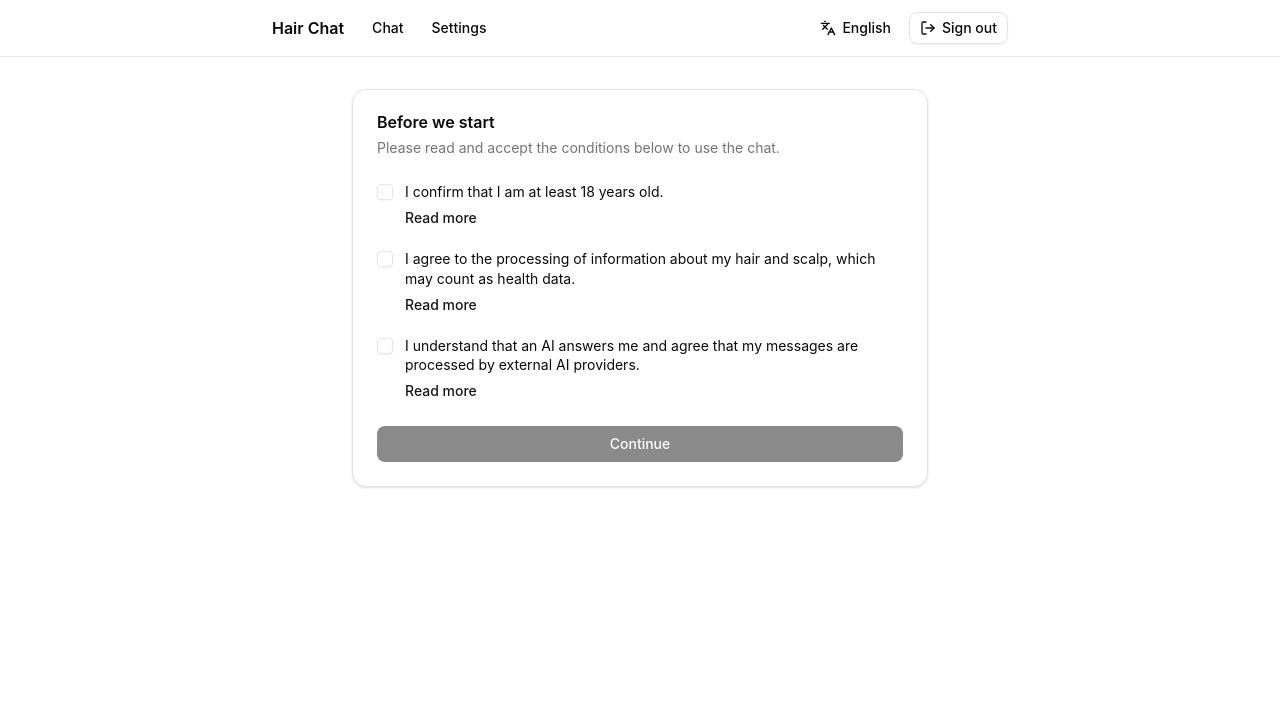
ConsentsPage › opens the full text in a dialog
The image size is (1280, 720).
Step 1. Click the 2nd button "Read more" → [441, 305], box [405,295,477,315]
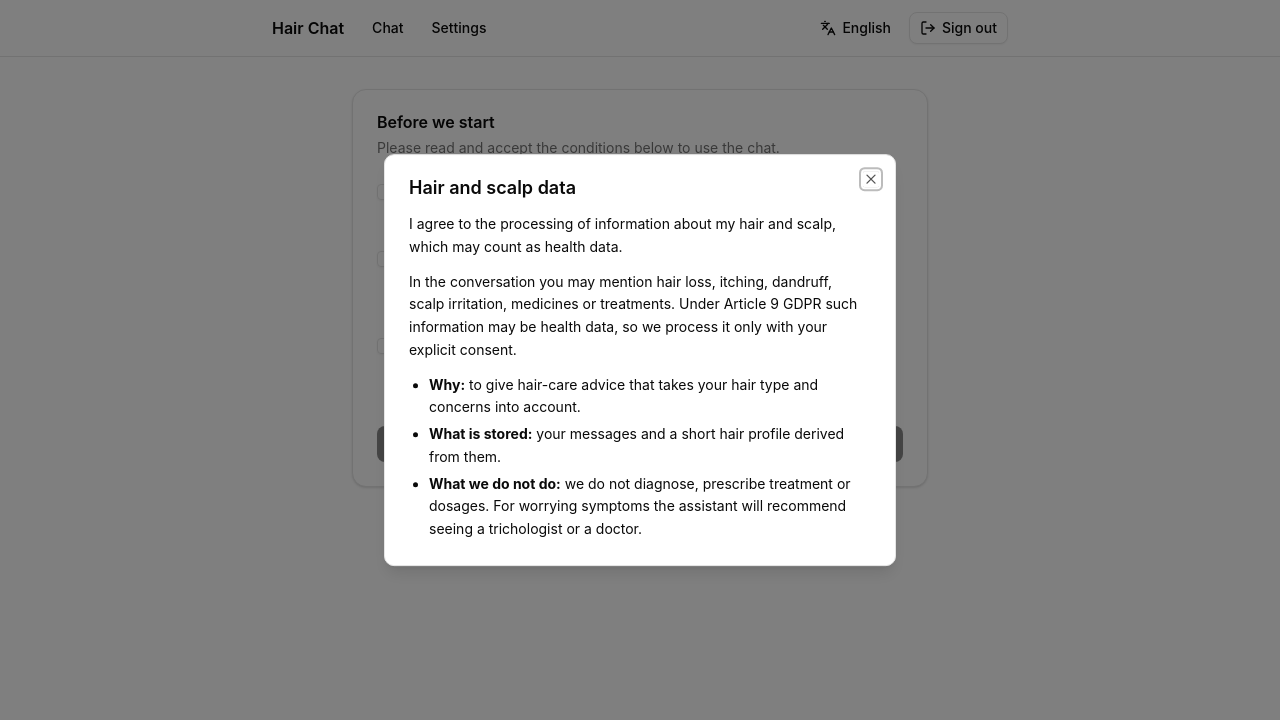
Expected: the dialog "Hair and scalp data" does not show "consent:", [384,154,896,566]
Expected: the text "Article 9 GDPR" is shown, [409,273,857,358]
